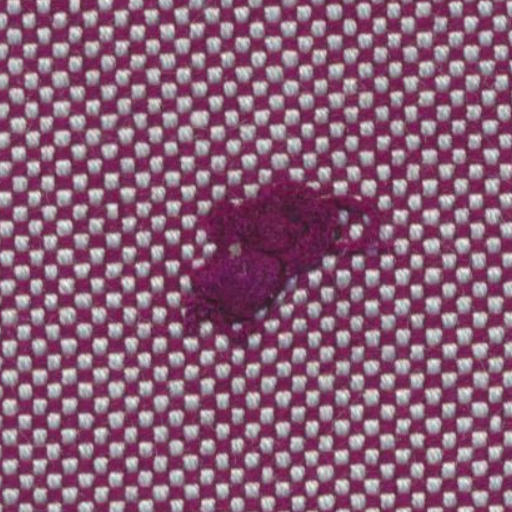MianQiu: (154, 143, 396, 350)
